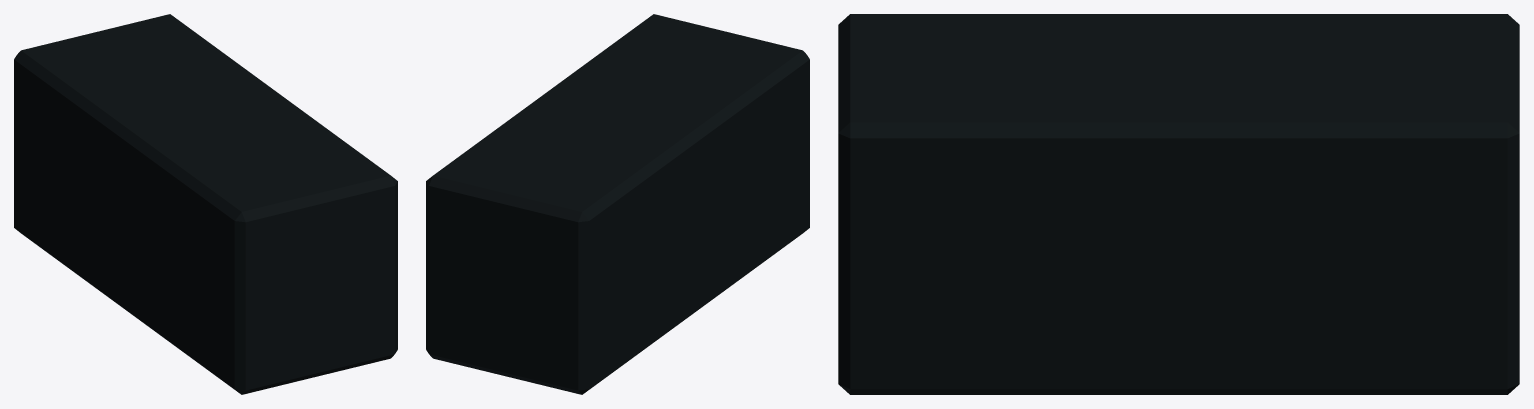
Rendered from Cockpit_Transport__Controls.obj.
3 renders of one model, left to right at view 1: azimuth 30°, elevation 25°; view 2: azimuth 150°, elevation 25°; view 3: azimuth 270°, elevation 25°, orthographic. The views are drawn at different scales.
Visible parts, largest first — view 1: Center_pedestal; view 2: Center_pedestal; view 3: Center_pedestal.
Boxes of the visible parts, <box> form: Center_pedestal: <box>14,14,397,394</box>; Center_pedestal: <box>426,14,809,394</box>; Center_pedestal: <box>838,14,1519,394</box>.
Size of the model in its own units: 0.28 by 0.3 by 0.68.
